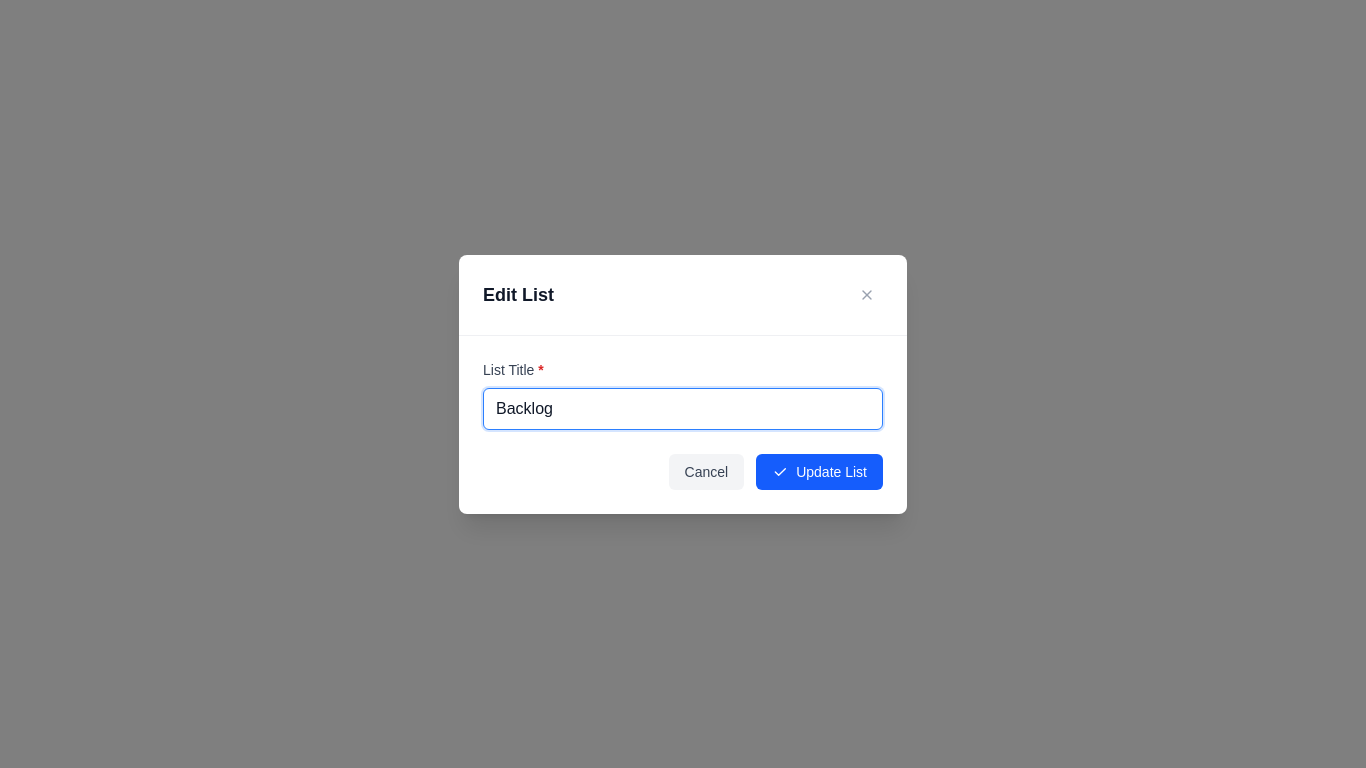
Test case: EditListModal › shows validation error when submitting empty title
This screenshot has width=1366, height=768.
Clear the field showing "Backlog". click: [683, 408]
box: [483,388,883,430]
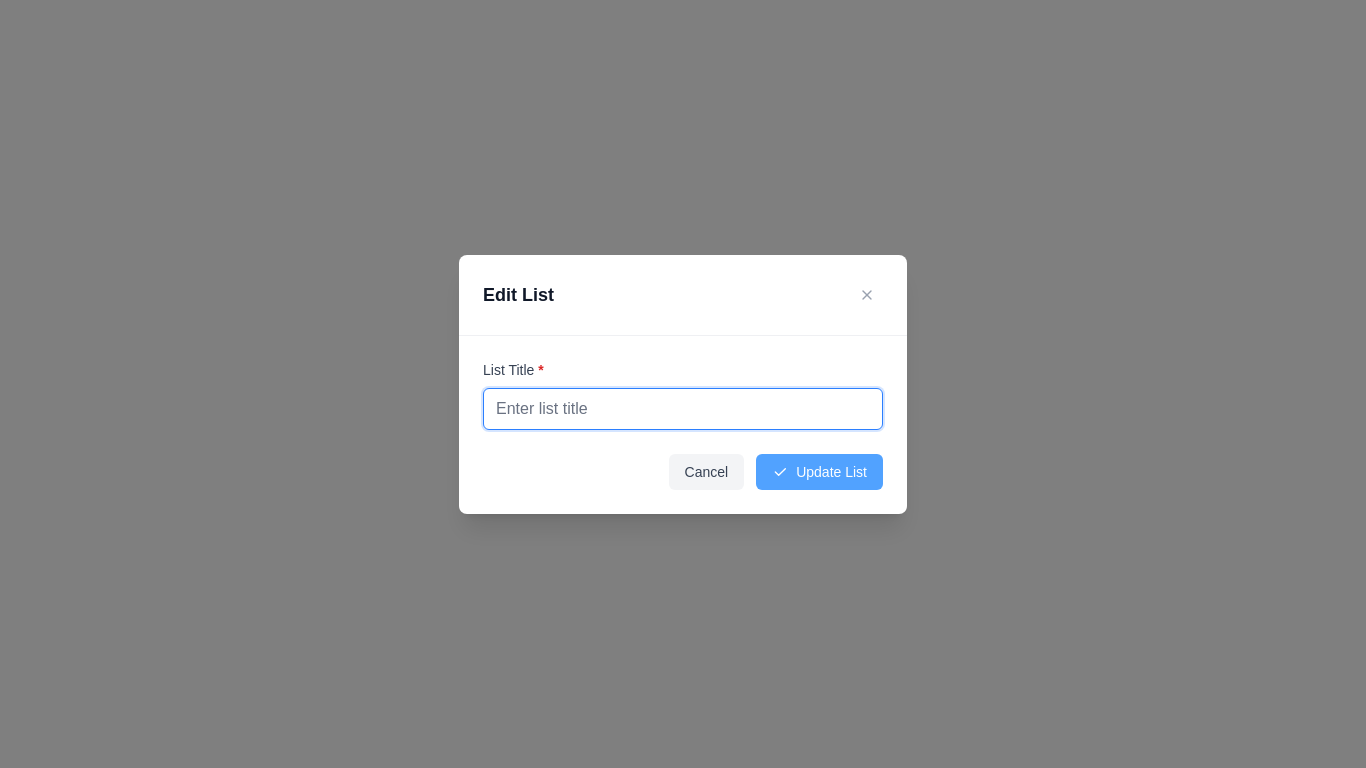
Submit the form "List Title* Cancel Update List", box [459,336,907,514]
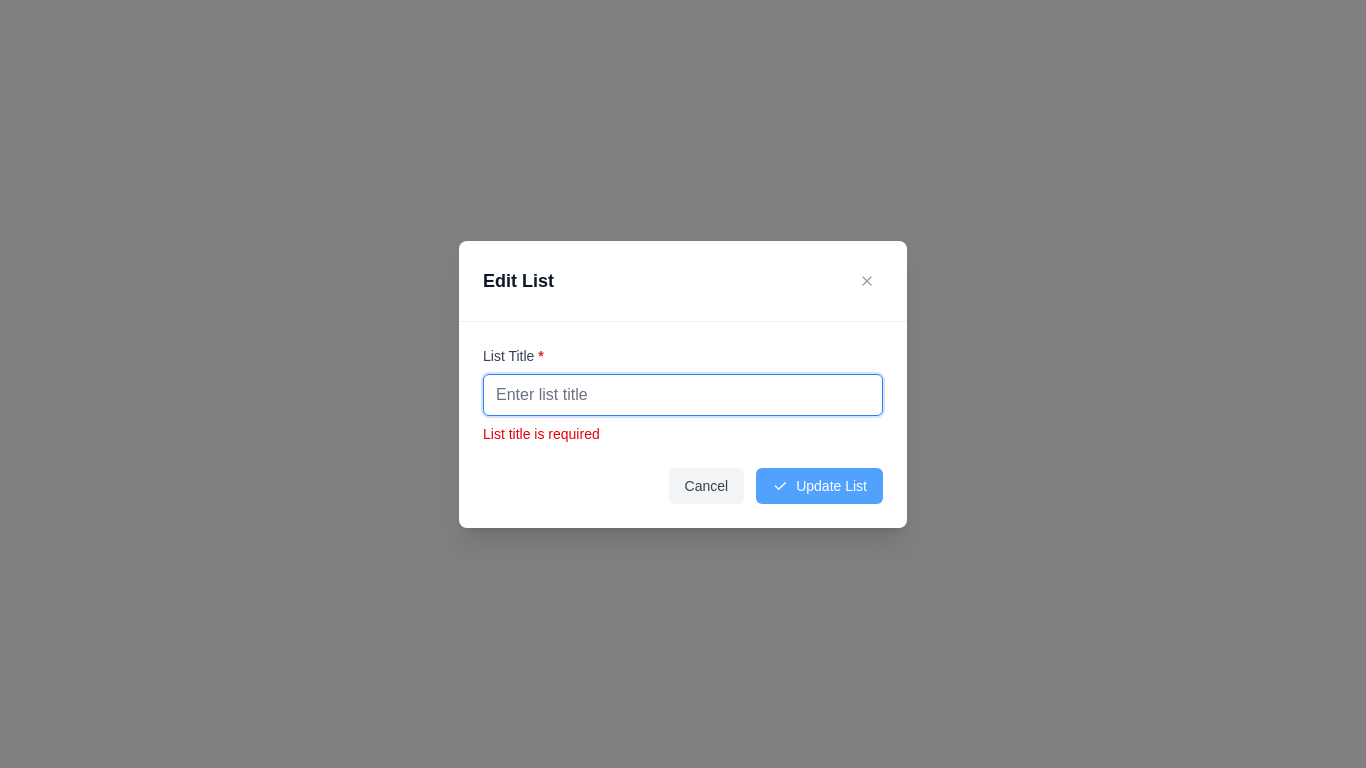
Now the text "List title is required" is shown, box [483,426,600,442]
